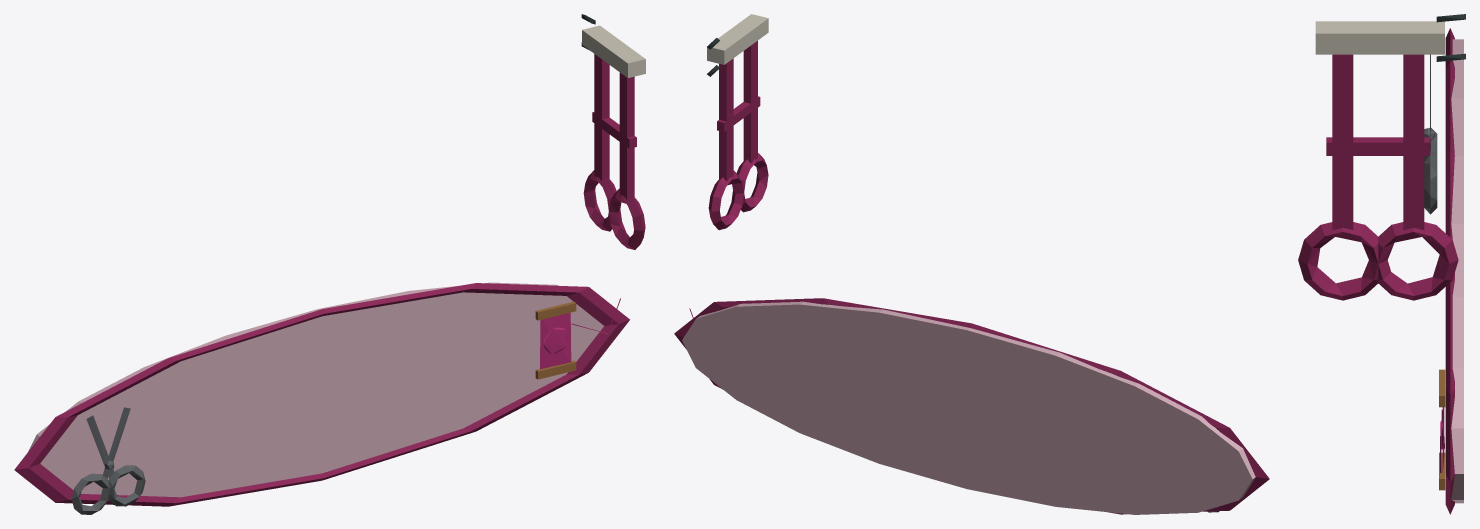
File: bang_tiem_may_hong_nhung_48.glb
3 views of the same model, side by side, from view 1: azimuth 30°, elevation 25°; view 2: azimuth 150°, elevation 25°; view 3: azimuth 270°, elevation 25° (orthographic). The views are drawn at different scales.
Visible parts, largest first — view 1: bang_tiem_may_hong_nhung_48; view 2: bang_tiem_may_hong_nhung_48; view 3: bang_tiem_may_hong_nhung_48.
Boxes of the visible parts, left/top/right/bottom form: bang_tiem_may_hong_nhung_48: left=14, top=14, right=645, bottom=514; bang_tiem_may_hong_nhung_48: left=674, top=14, right=1269, bottom=514; bang_tiem_may_hong_nhung_48: left=1298, top=14, right=1465, bottom=514.
Bounding box in the file's own units: 4.8 × 2.96 × 0.805.
